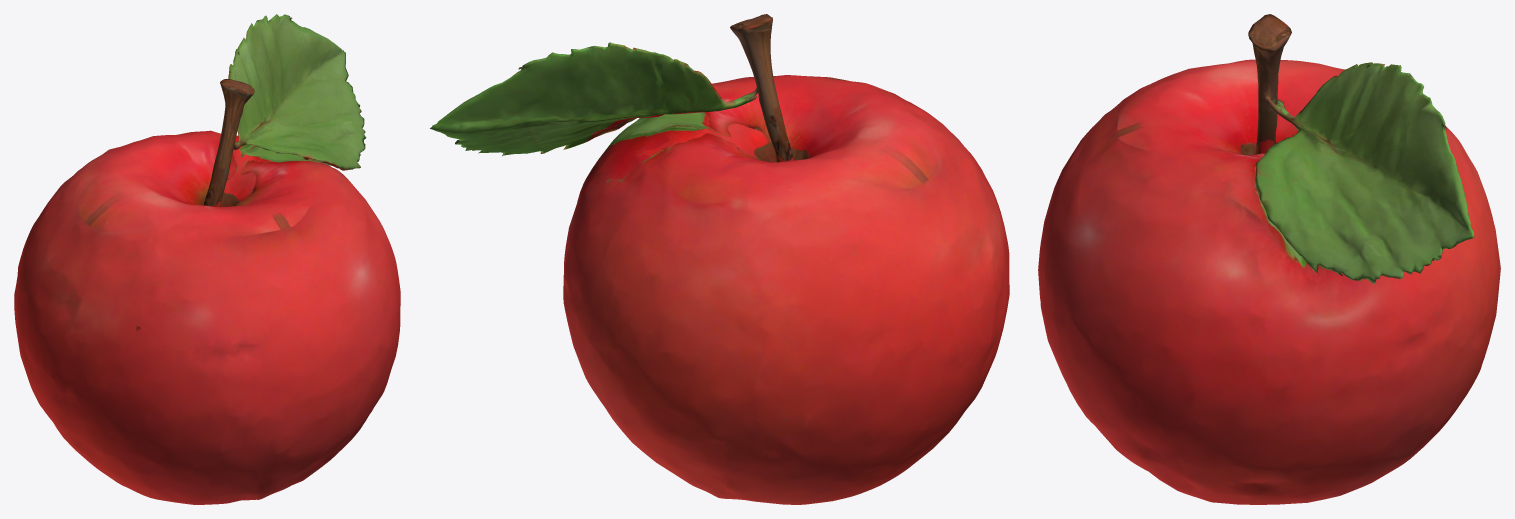
3 renders of one model, left to right at view 1: azimuth 30°, elevation 25°; view 2: azimuth 150°, elevation 25°; view 3: azimuth 270°, elevation 25°, orthographic. The views are drawn at different scales.
Visible parts, largest first — view 1: Mesh1; view 2: Mesh1; view 3: Mesh1.
Boxes of the visible parts, bbox=[...] form: Mesh1: bbox=[14, 14, 400, 504]; Mesh1: bbox=[430, 14, 1009, 504]; Mesh1: bbox=[1038, 14, 1500, 504].
Size of the model in its own units: 200 by 188 by 171.
1 material, 1 textured.
